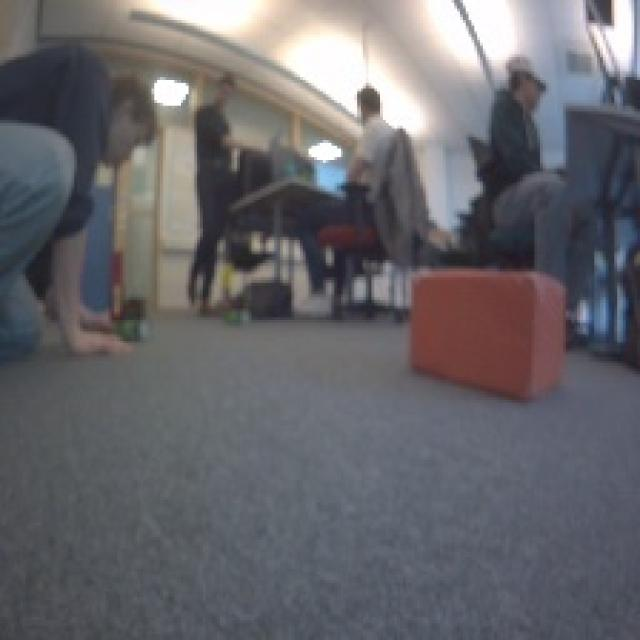robot: (105, 291, 154, 343), (222, 289, 256, 326)
target: (406, 263, 568, 400)
